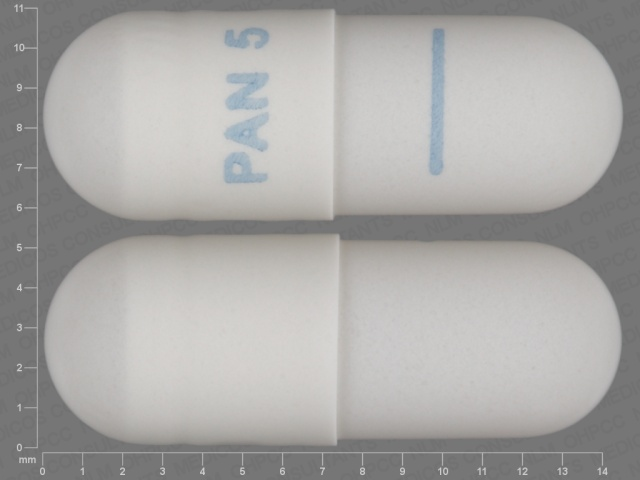capsule: (41, 7, 624, 223), (43, 230, 623, 445)
